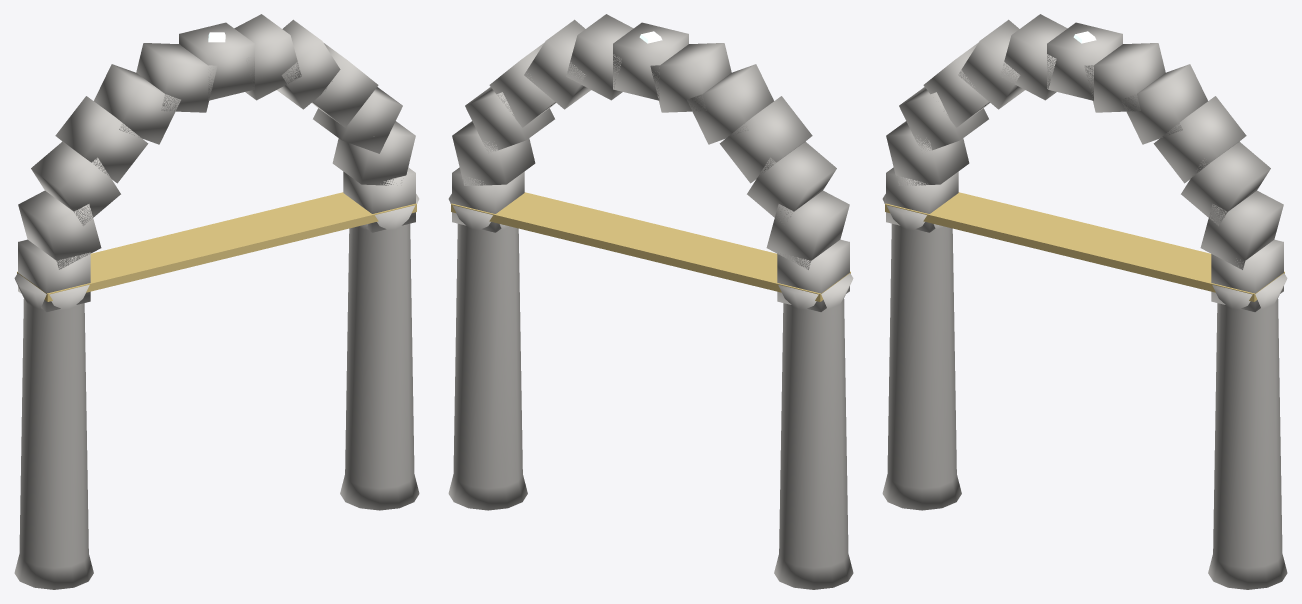
The model's file is arch.glb.
3 views of the same model, side by side, from view 1: azimuth 30°, elevation 25°; view 2: azimuth 150°, elevation 25°; view 3: azimuth 330°, elevation 25° (orthographic).
Parts seen in each view (by area): view 1: Arch; view 2: Arch; view 3: Arch.
Part boxes in pixels (x1,y1,x2,y2): Arch: (14, 14, 419, 589); Arch: (448, 14, 853, 589); Arch: (882, 14, 1287, 589).
Bounding box in the file's own units: 6.3 × 7.6 × 1.1.
